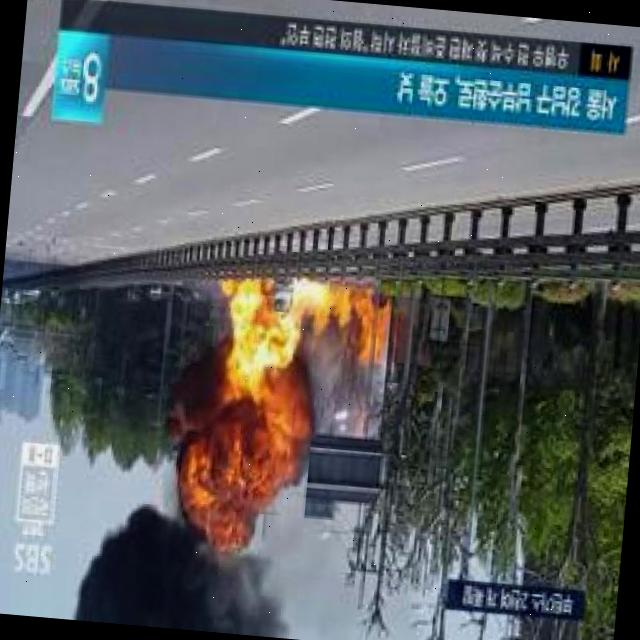fire: (218, 268, 315, 387), (317, 287, 387, 333)
